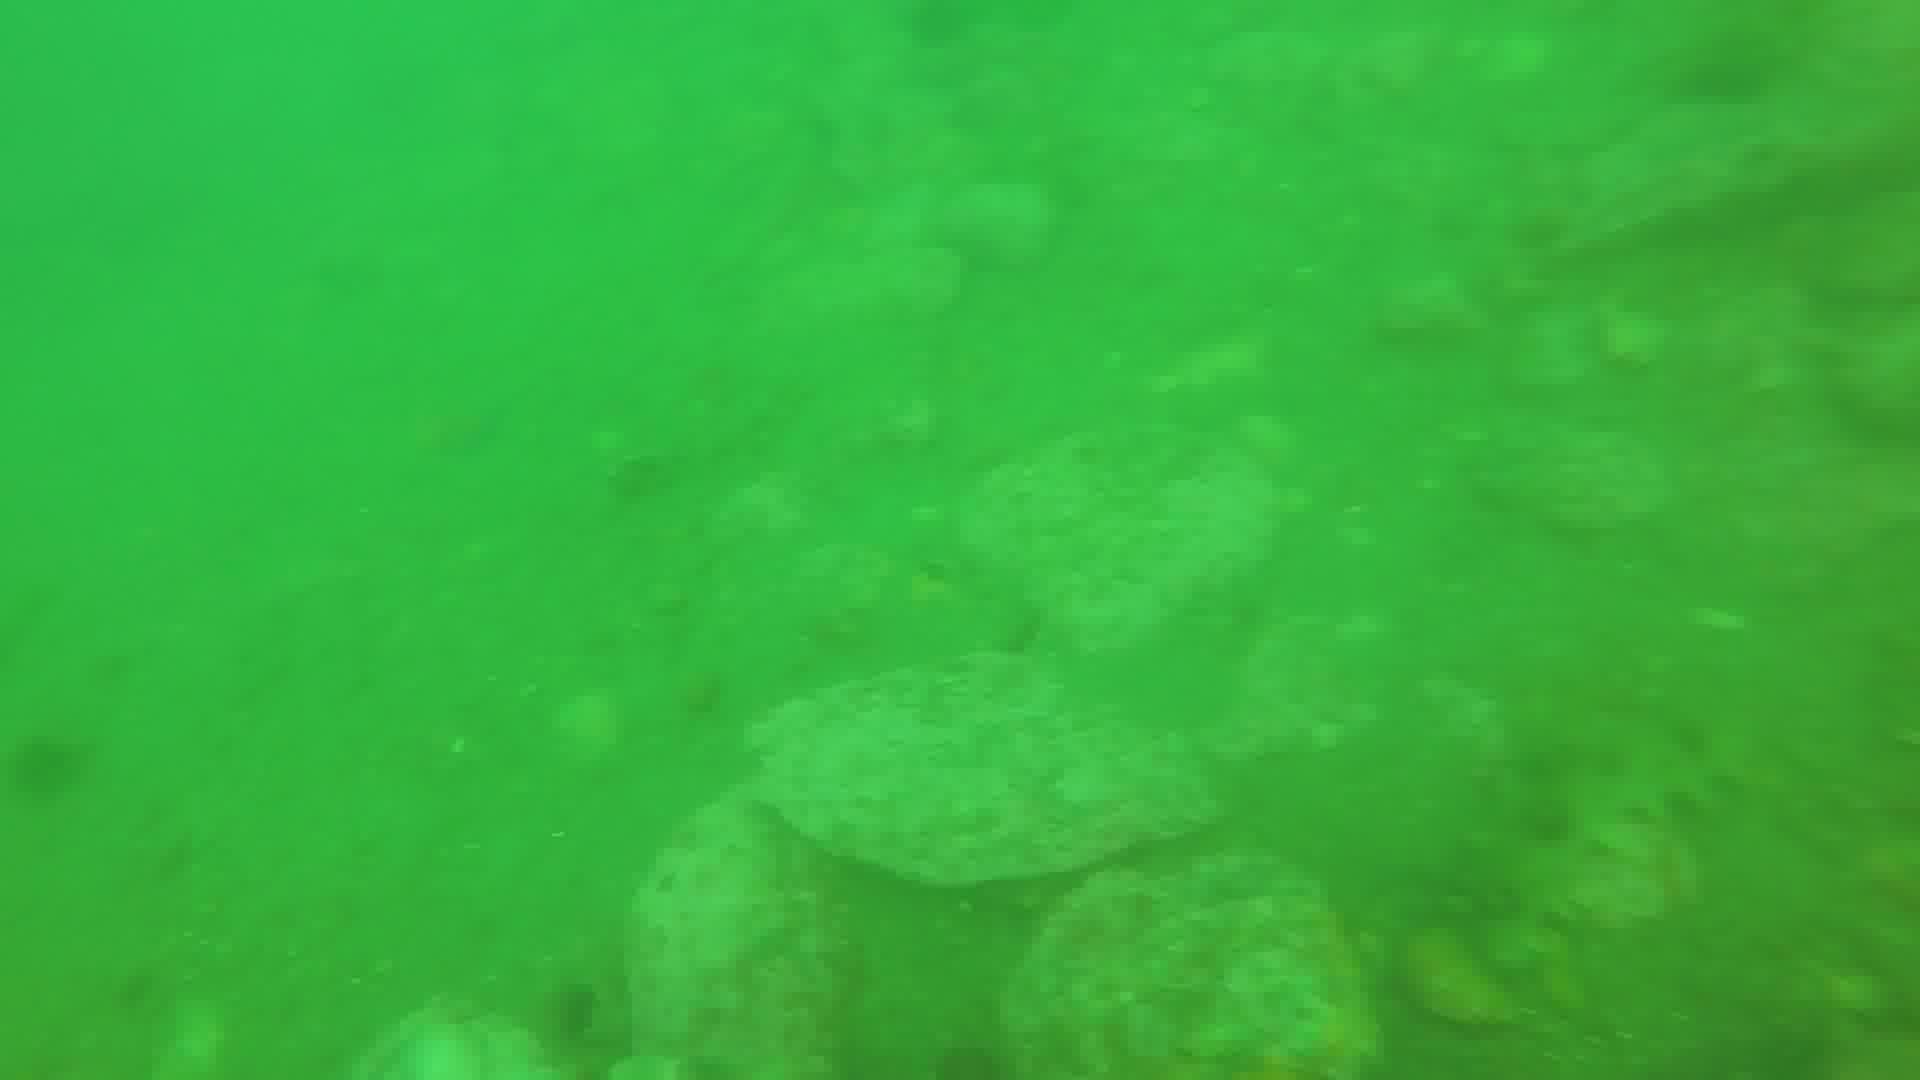holothurian: (1473, 723, 1729, 957)
